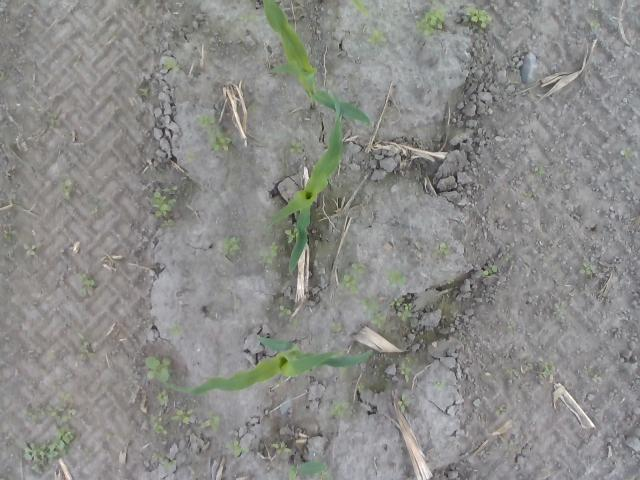Maize: (262, 84, 346, 276), (264, 0, 373, 128), (154, 335, 373, 395)
Weeds: (25, 428, 80, 468), (22, 394, 72, 426), (196, 112, 233, 154), (420, 2, 446, 36), (152, 187, 176, 221), (344, 262, 369, 294), (290, 463, 333, 480), (361, 298, 387, 324), (146, 357, 171, 381), (466, 9, 490, 30), (77, 332, 93, 362), (261, 241, 280, 266), (368, 29, 388, 49), (80, 274, 98, 294), (331, 400, 349, 420), (222, 239, 242, 256), (388, 271, 406, 289), (225, 442, 245, 458), (352, 1, 371, 16), (3, 227, 18, 246), (200, 415, 220, 429), (398, 304, 413, 322), (175, 410, 193, 424), (154, 410, 164, 434), (64, 176, 74, 200), (273, 442, 290, 456), (164, 325, 182, 338), (280, 306, 294, 321), (165, 56, 180, 70), (155, 456, 176, 466), (397, 393, 408, 412), (286, 227, 300, 241), (156, 390, 168, 406), (438, 243, 451, 257), (26, 244, 40, 257), (534, 164, 548, 176), (402, 363, 411, 381), (539, 366, 553, 377), (483, 266, 497, 276), (291, 139, 301, 153), (580, 264, 597, 272), (242, 14, 256, 22), (590, 20, 600, 30), (620, 147, 628, 156), (334, 322, 342, 330)
